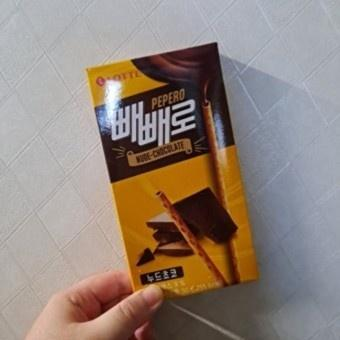snack: (85, 41, 260, 302)
